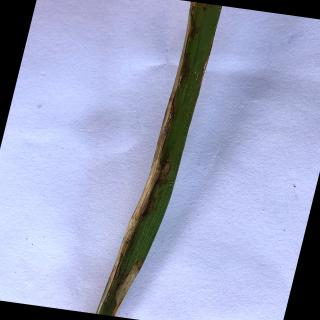Hawar-Daun: (94, 3, 202, 314), (110, 259, 146, 316)
